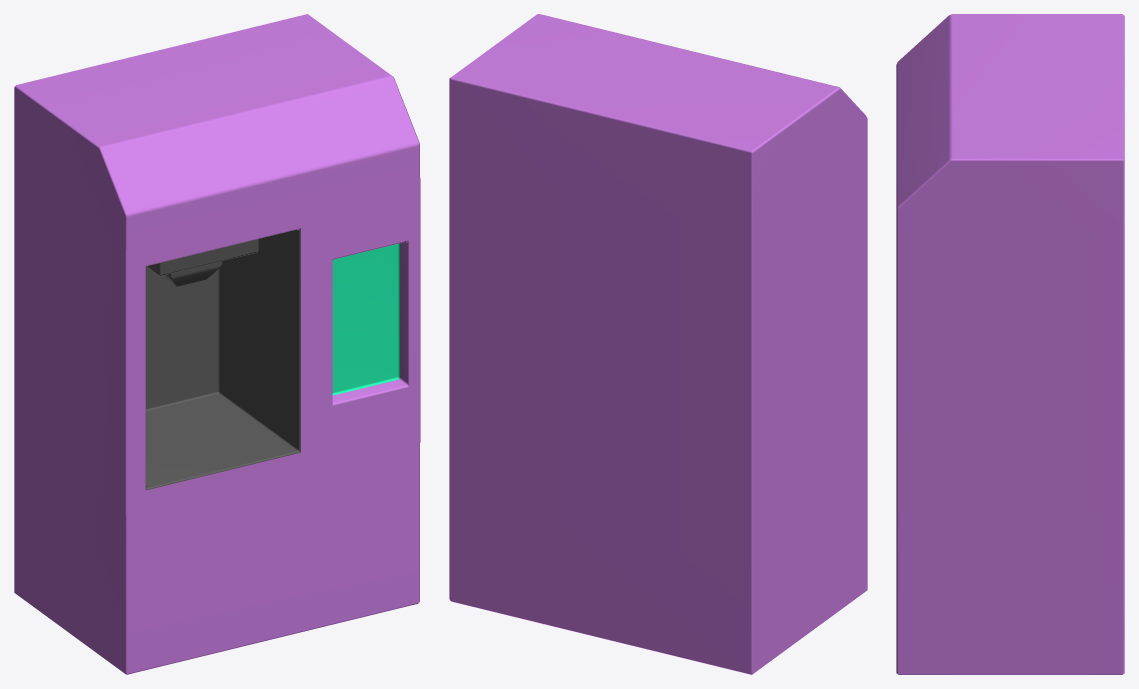
The model's file is Drink_machine.fbx.
The picture shows the model from 3 angles, left to right: view 1: azimuth 30°, elevation 25°; view 2: azimuth 150°, elevation 25°; view 3: azimuth 270°, elevation 25°; orthographic projection. The views are drawn at different scales.
Parts seen in each view (by area): view 1: Box009; view 2: Box009; view 3: Box009.
Part boxes in pixels (x1,y1,x2,y2): Box009: (14, 14, 420, 674); Box009: (449, 14, 867, 674); Box009: (896, 14, 1124, 674).
Size of the model in its own units: 151 by 249 by 100.
